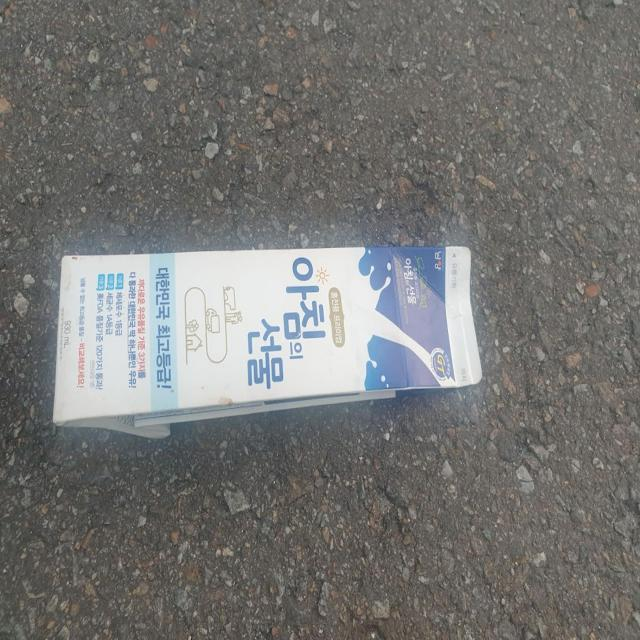paperpack: (52, 246, 483, 438)
